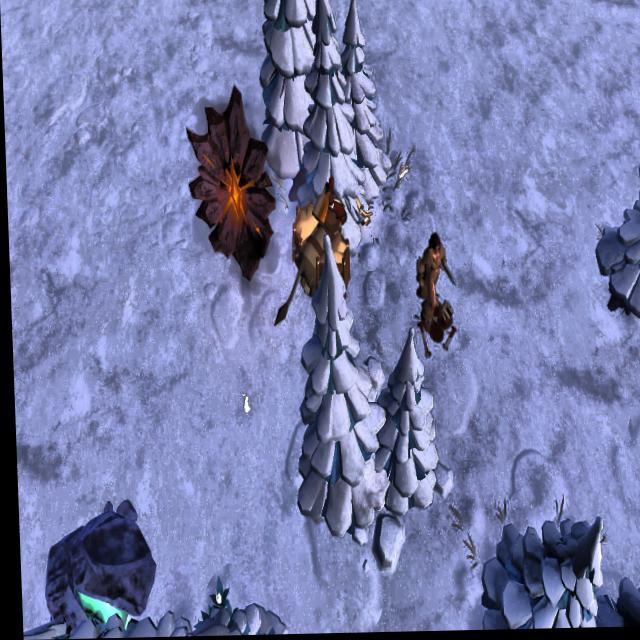enemy_factionKeeper: (412, 232, 453, 330)
